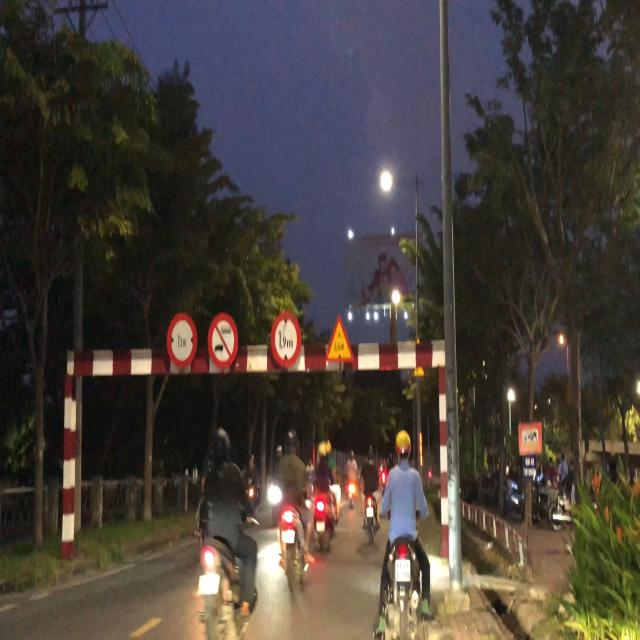Bien bao cam xe oto khach va xe oto tai: (207, 307, 239, 372)
Bien bao chieu cao tinh khong thuc te: (325, 315, 355, 364)
Bien bao han che chieu cao: (269, 304, 301, 374)
